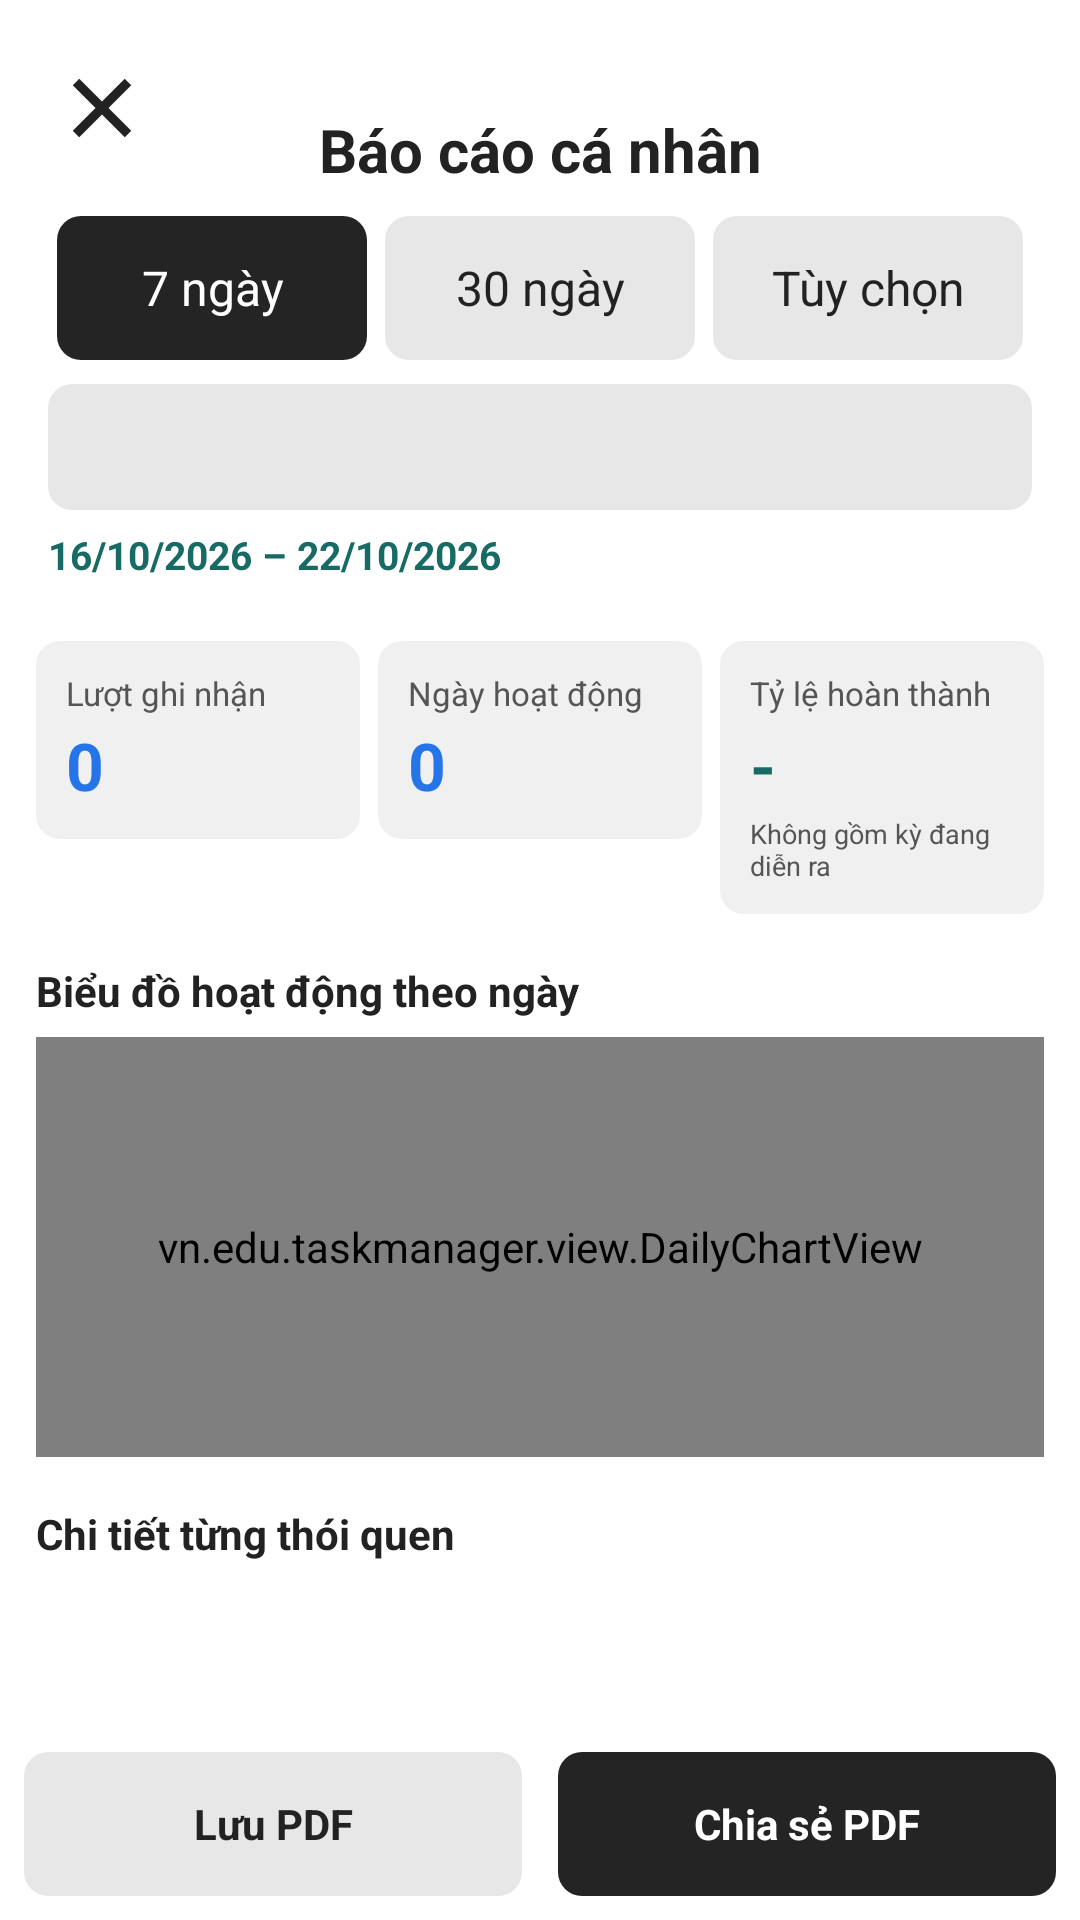

Screen size 1080*1920. Icon name, then its center in pixels as (x,y):
Đóng: (102,108)
